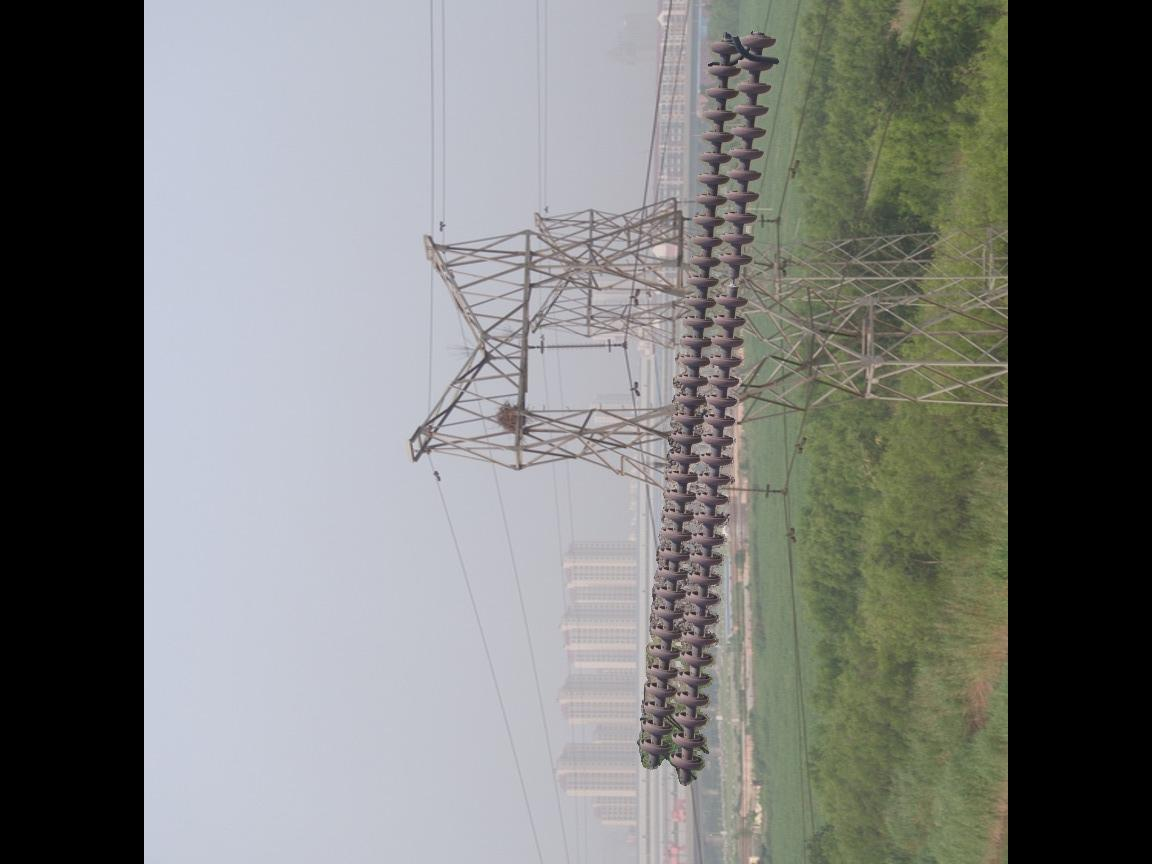insulator: (633, 24, 780, 785)
insulator_stringdrop: (714, 250, 753, 311)
